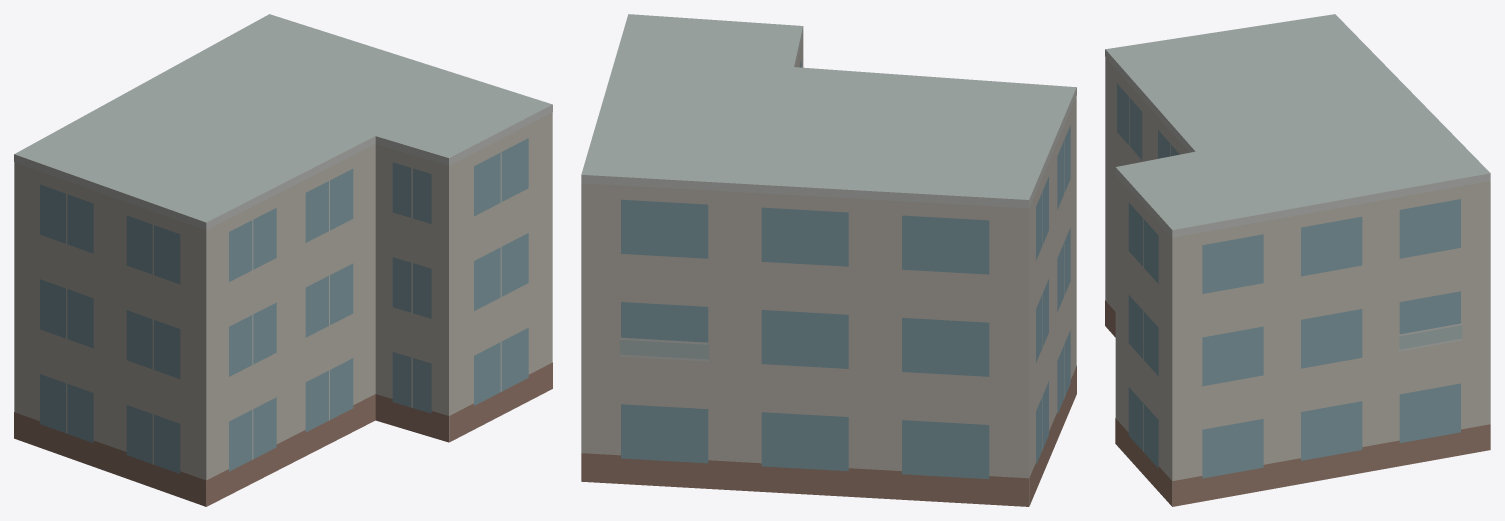
Rendered from survey-upis-33002087.glb.
3 renders of one model, left to right at view 1: azimuth 30°, elevation 25°; view 2: azimuth 150°, elevation 25°; view 3: azimuth 270°, elevation 25°, orthographic. The views are drawn at different scales.
Visible parts, largest first — view 1: survey-upis-33002087.tmp; view 2: survey-upis-33002087.tmp; view 3: survey-upis-33002087.tmp.
Boxes of the visible parts, x1=… form: survey-upis-33002087.tmp: x1=14, y1=14, x2=552, y2=506; survey-upis-33002087.tmp: x1=581, y1=14, x2=1076, y2=506; survey-upis-33002087.tmp: x1=1105, y1=14, x2=1490, y2=506.
Bounding box in the file's own units: 14.92 × 8.9 × 11.24.
